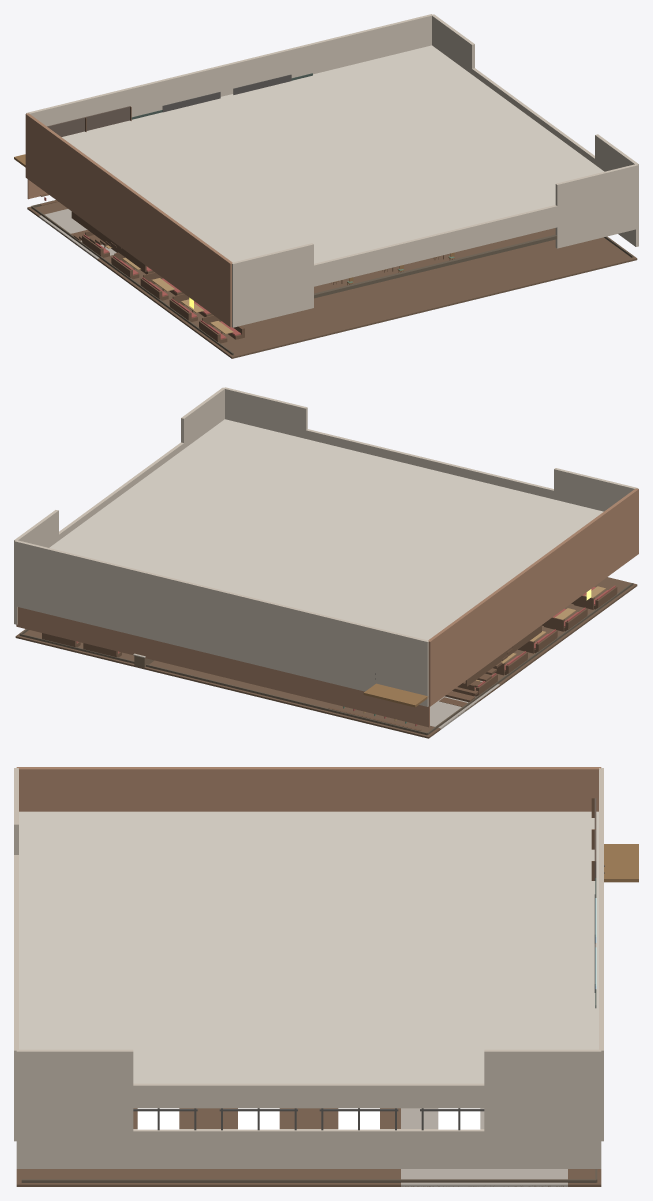
Rendered from cafe-map.glb.
3 views of the same model, one above another, from view 1: azimuth 30°, elevation 25°; view 2: azimuth 150°, elevation 25°; view 3: azimuth 270°, elevation 25° (orthographic). The views are drawn at different scales.
Visible parts, largest first — view 1: Ceiling_Main, Floor_Main, Wall_W, Wall_N, Wall_S_Top, Wall_S_L, Wall_S_R, Wall_E_Top, Wall_S_Hdr, Wall_E_FR, ShelfWall_Back, Wall_E_FL (+3 smaller); view 2: Ceiling_Main, Wall_N, Wall_W, Wall_N_Brick, Floor_Main, Wall_S_Top, Wall_S_R, Wall_S_L, Wall_E_Top, Wall_E_FL, Skirt_N, Wall_E_FR (+4 smaller); view 3: Ceiling_Main, Wall_W, Wall_E_Bot, Wall_E_Top, Wall_E_FR, Wall_E_FL, Floor_Main, Floor_Counter, Skirt_E, Wall_N, Mezz_W_Floor, Win_Glass_0 (+4 smaller).
Part boxes in pixels (<box>): Ceiling_Main: <box>62,45,604,263</box>; Floor_Main: <box>27,202,637,358</box>; Wall_W: <box>25,113,232,327</box>; Wall_N: <box>26,14,432,126</box>; Wall_S_Top: <box>232,186,638,305</box>; Wall_S_L: <box>232,243,313,327</box>; Wall_S_R: <box>555,164,638,248</box>; Wall_E_Top: <box>432,40,638,200</box>; Wall_S_Hdr: <box>314,234,557,298</box>; Wall_E_FR: <box>431,14,474,73</box>; ShelfWall_Back: <box>47,106,130,136</box>; Wall_E_FL: <box>595,134,638,227</box>; Ceiling_Main: <box>49,419,603,640</box>; Wall_N: <box>14,540,429,706</box>; Wall_W: <box>428,488,638,706</box>; Wall_N_Brick: <box>16,607,429,727</box>; Floor_Main: <box>15,577,637,738</box>; Wall_S_Top: <box>225,411,611,510</box>; Wall_S_R: <box>224,387,307,438</box>; Wall_S_L: <box>554,468,638,511</box>; Wall_E_Top: <box>14,413,224,578</box>; Wall_E_FL: <box>181,387,224,448</box>; Skirt_N: <box>20,633,427,735</box>; Wall_E_FR: <box>14,510,58,605</box>; Ceiling_Main: <box>19,811,598,1083</box>; Wall_W: <box>16,767,601,811</box>; Wall_E_Bot: <box>16,1129,601,1168</box>; Wall_E_Top: <box>16,1083,600,1108</box>; Wall_E_FR: <box>484,1049,601,1142</box>; Wall_E_FL: <box>16,1049,133,1142</box>; Floor_Main: <box>16,1108,601,1186</box>; Floor_Counter: <box>401,1108,567,1186</box>; Skirt_E: <box>21,1179,596,1182</box>; Wall_N: <box>599,768,603,1141</box>; Mezz_W_Floor: <box>604,844,638,882</box>; Win_Glass_0: <box>137,1108,179,1129</box>.
Bounding box in the file's own units: 40.3 × 9 × 37.4.
